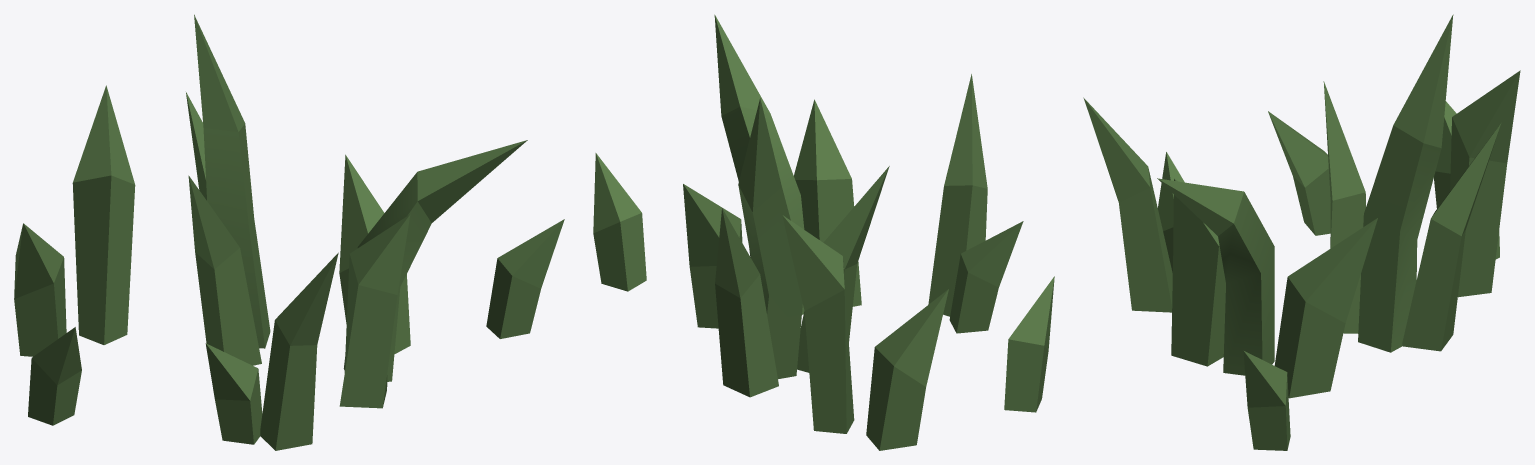
Rendered from SM_Env_Grass_Patch_03.fbx.
3 renders of one model, left to right at view 1: azimuth 30°, elevation 25°; view 2: azimuth 150°, elevation 25°; view 3: azimuth 270°, elevation 25°, orthographic. The views are drawn at different scales.
Visible parts, largest first — view 1: SM_Env_Grass_Patch_03; view 2: SM_Env_Grass_Patch_03; view 3: SM_Env_Grass_Patch_03.
Boxes of the visible parts, box(x1,y1,x2,y2) form: SM_Env_Grass_Patch_03: box(14, 14, 564, 450); SM_Env_Grass_Patch_03: box(593, 14, 1054, 450); SM_Env_Grass_Patch_03: box(1083, 14, 1520, 450).
Size of the model in its own units: 68.16 by 40.42 by 50.73.
